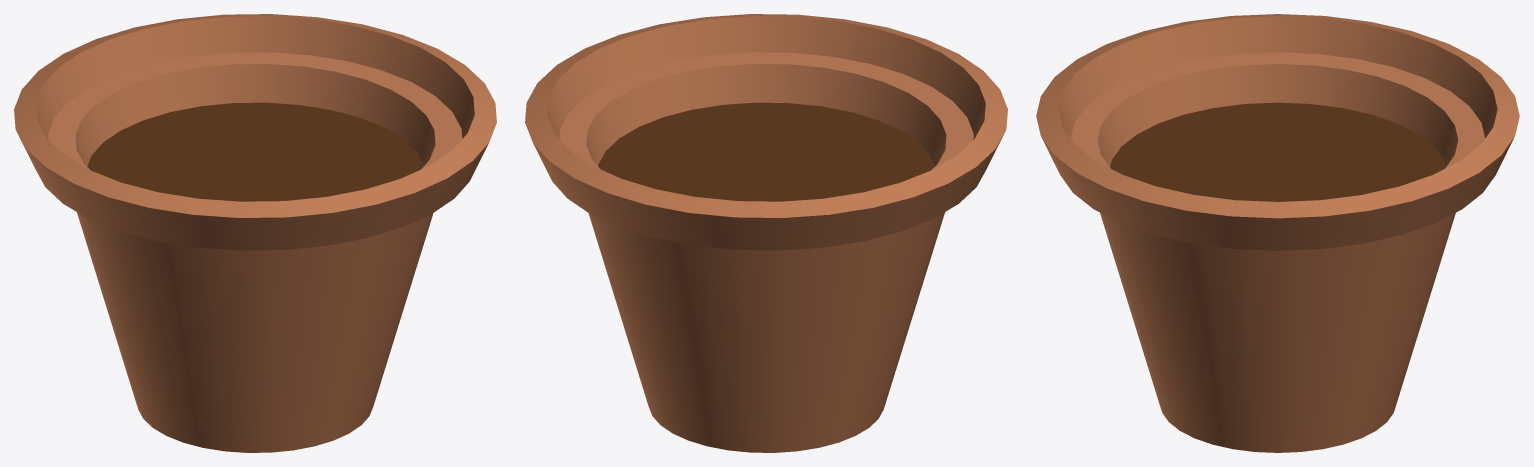
File: plantPot.fbx
The picture shows the model from 3 angles, left to right: view 1: azimuth 30°, elevation 25°; view 2: azimuth 150°, elevation 25°; view 3: azimuth 270°, elevation 25°; orthographic projection.
Visible parts, largest first — view 1: Vert; view 2: Vert; view 3: Vert.
Part boxes in pixels (x1,y1,x2,y2): Vert: [14, 14, 496, 452]; Vert: [525, 14, 1007, 452]; Vert: [1036, 14, 1519, 452].
Bounding box in the file's own units: 535 × 364 × 535.
